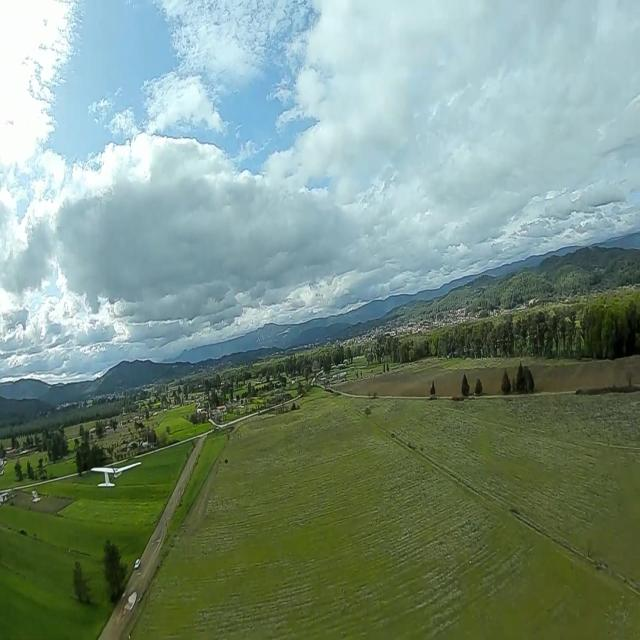iha: (27, 459, 78, 488)
